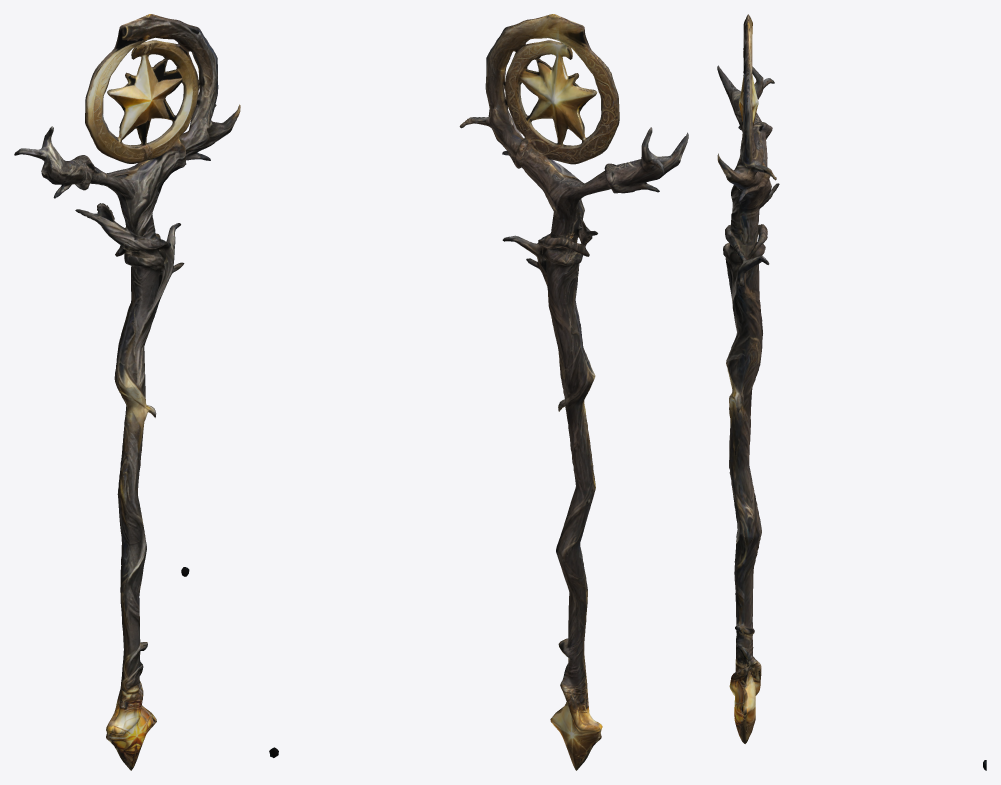
File: Wizard_Staff_with_Shi_0502101538_refine.fbx
The picture shows the model from 3 angles, left to right: view 1: azimuth 30°, elevation 25°; view 2: azimuth 150°, elevation 25°; view 3: azimuth 270°, elevation 25°; orthographic projection. The views are drawn at different scales.
Visible parts, largest first — view 1: Mesh_0; view 2: Mesh_0; view 3: Mesh_0.
Part boxes in pixels (left/top/right/bottom): Mesh_0: left=14, top=14, right=240, bottom=770; Mesh_0: left=269, top=14, right=688, bottom=770; Mesh_0: left=717, top=14, right=986, bottom=770.
Bounding box in the file's own units: 79.22 × 200 × 66.78.
1 material, 1 textured.
